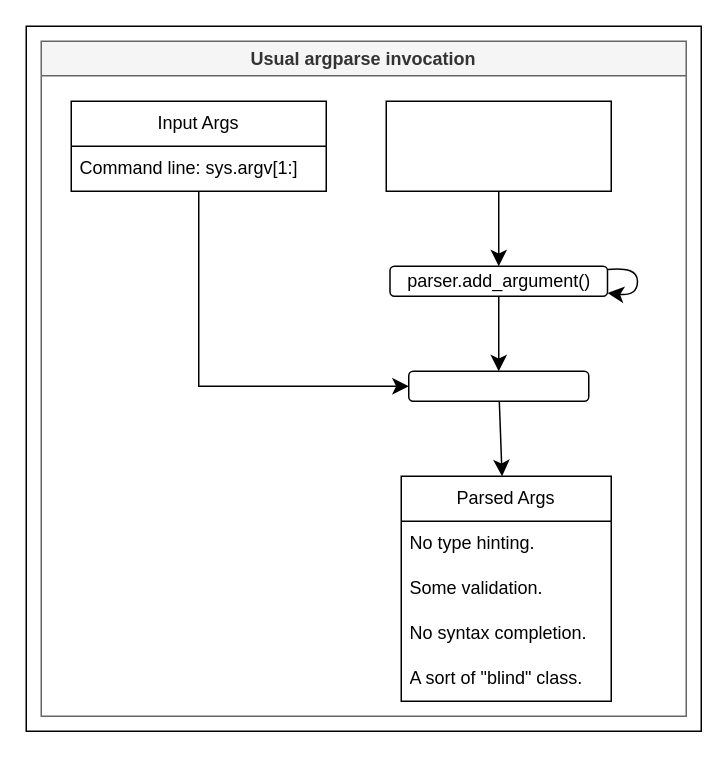
Image size: 728x758. Some labels were removed from this diagram. Each missing label, with the centre of its shape:
"argparse.ArgumentParser" belongs at point 498,145.
"parser.parse_args()" belongs at point 498,385.
